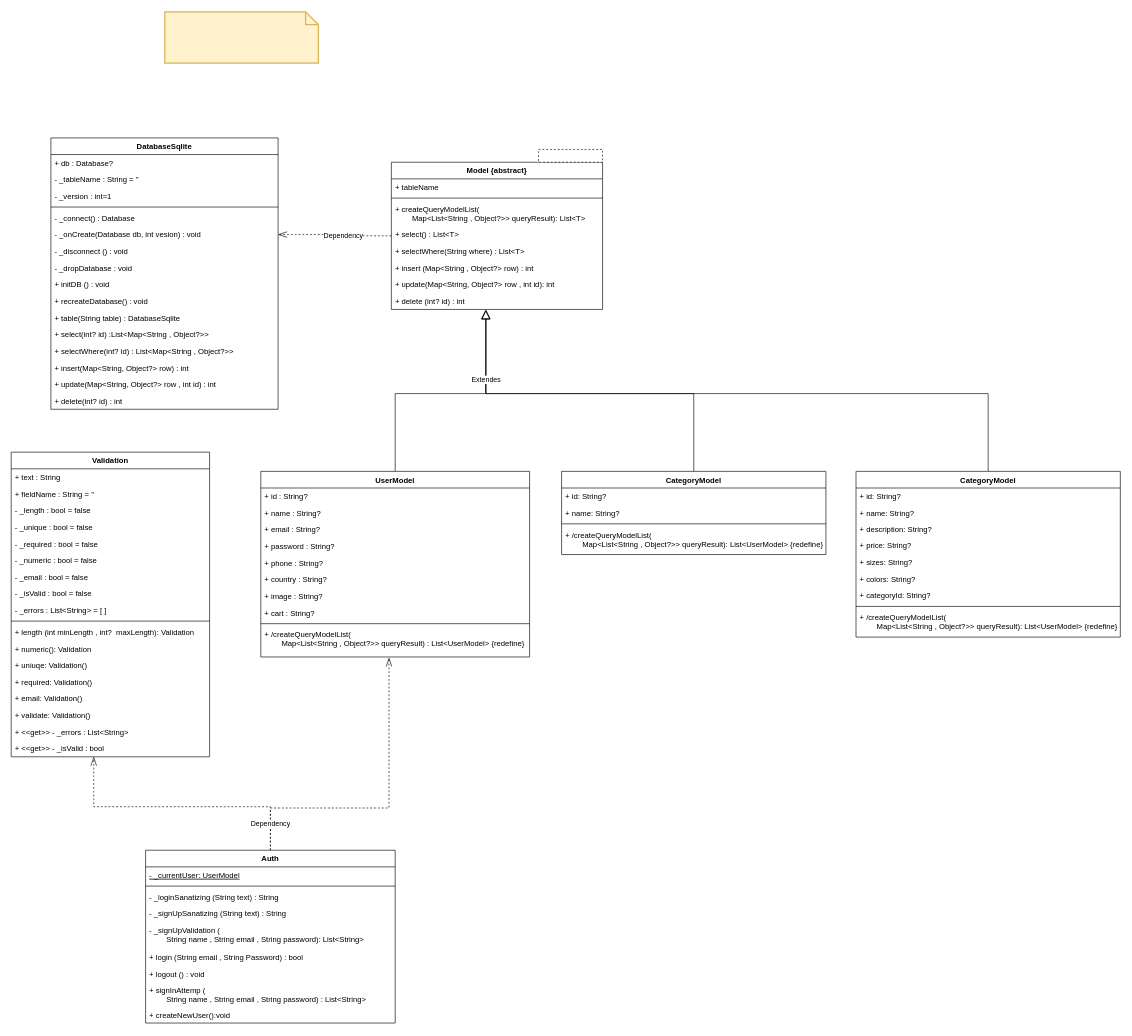
Image size: 1132x1036. Some labels were removed from this diagram. Each missing label, with the centre of its shape:
"? = value is null by default" belongs at (x=241, y=37).
"T : Model Type" belongs at (x=570, y=155).
